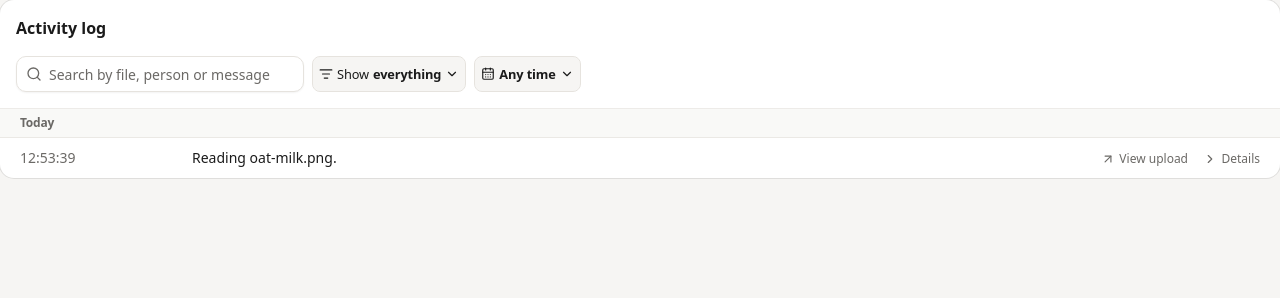
Test: ActivityLog › fetches an event’s details only when they’re opened
This screenshot has width=1280, height=298.
Click the button "Details": (1232, 159) [1204, 151, 1260, 167]
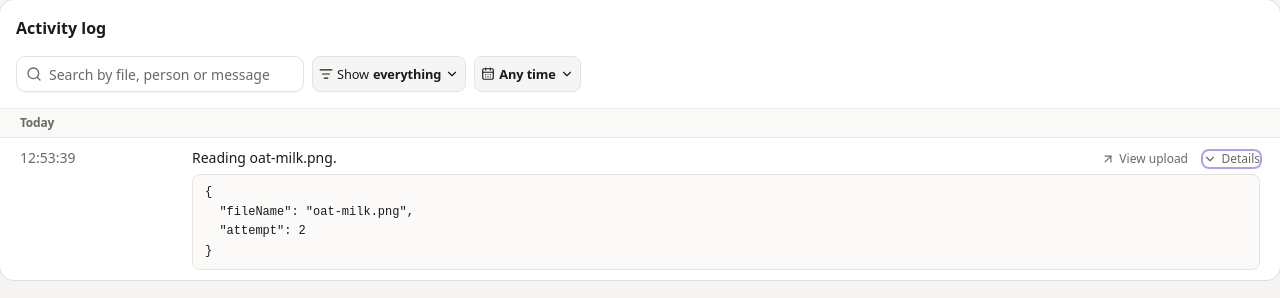
Check: the text "{ \"fileName\": \"oat-milk.png\", \"attempt\": 2 }" is shown, box [192, 174, 1260, 270]
